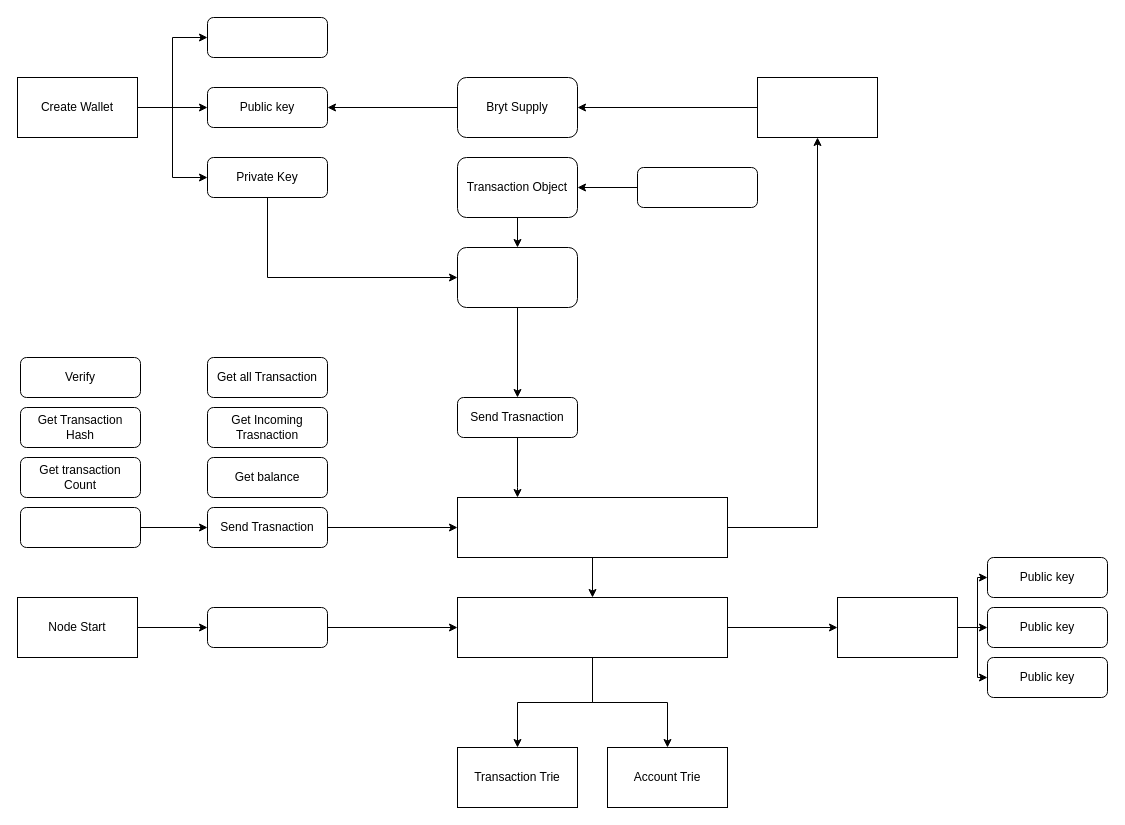
Image size: 1125x825. Some labels were removed from this diagram. Here are the shapes that lost their labels. From the top down, the centre of each, then its label:
At pixel 267 37: "address".
At pixel 817 107: "Incoming Transactions".
At pixel 697 187: "SHA-256".
At pixel 517 277: "Sign Hash".
At pixel 80 527: "Get Account transactions".
At pixel 592 527: "Node JSON RPC".
At pixel 267 627: "Public Keys".
At pixel 592 627: "Bryt Node".
At pixel 897 627: "Coinbase Supply Mint".
